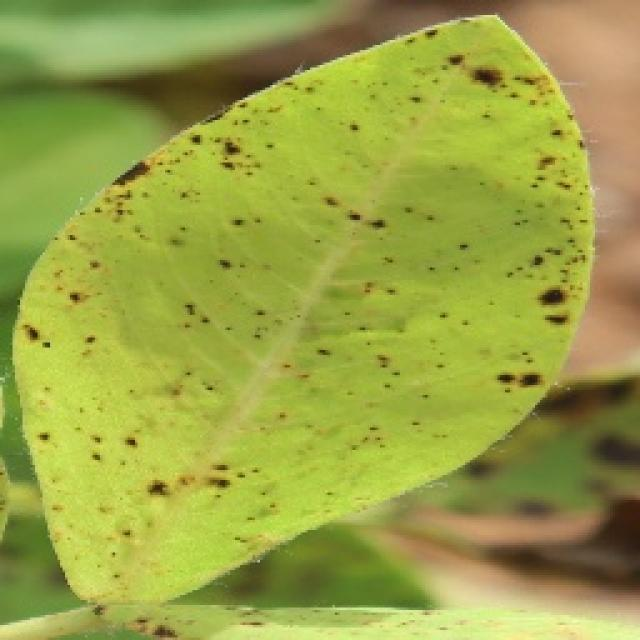Yellowish: (11, 30, 594, 631)
